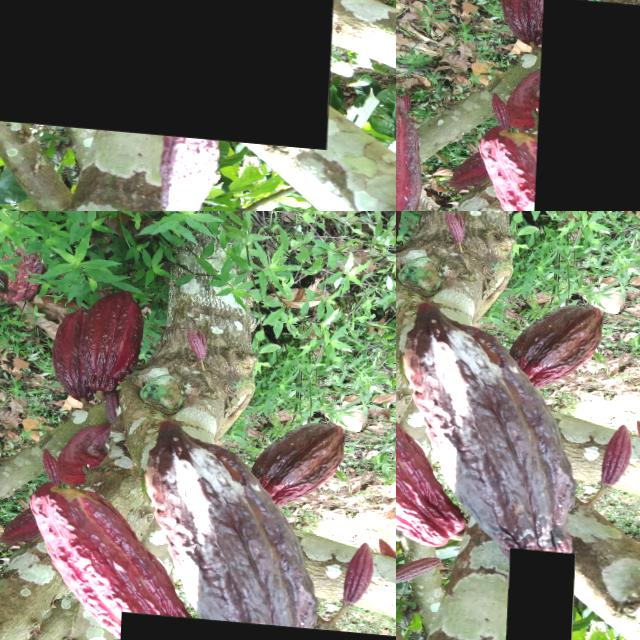Fitoftora: (0, 0, 349, 140), (534, 0, 640, 211), (511, 291, 609, 370)
Monilia: (407, 321, 582, 555), (122, 608, 396, 640)
Sana: (8, 398, 396, 606), (396, 365, 466, 544), (509, 542, 580, 640), (599, 415, 640, 476), (396, 548, 453, 582)
